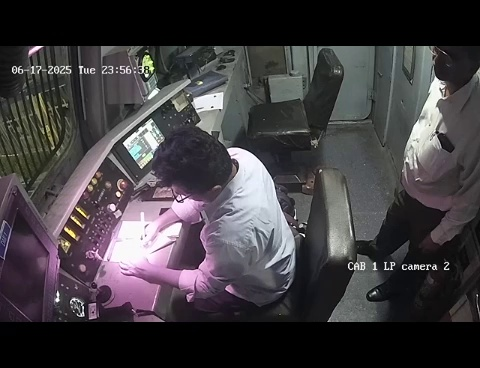horn_inactive: (79, 274, 121, 312)
